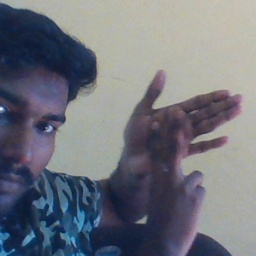N: (118, 67, 245, 207)
